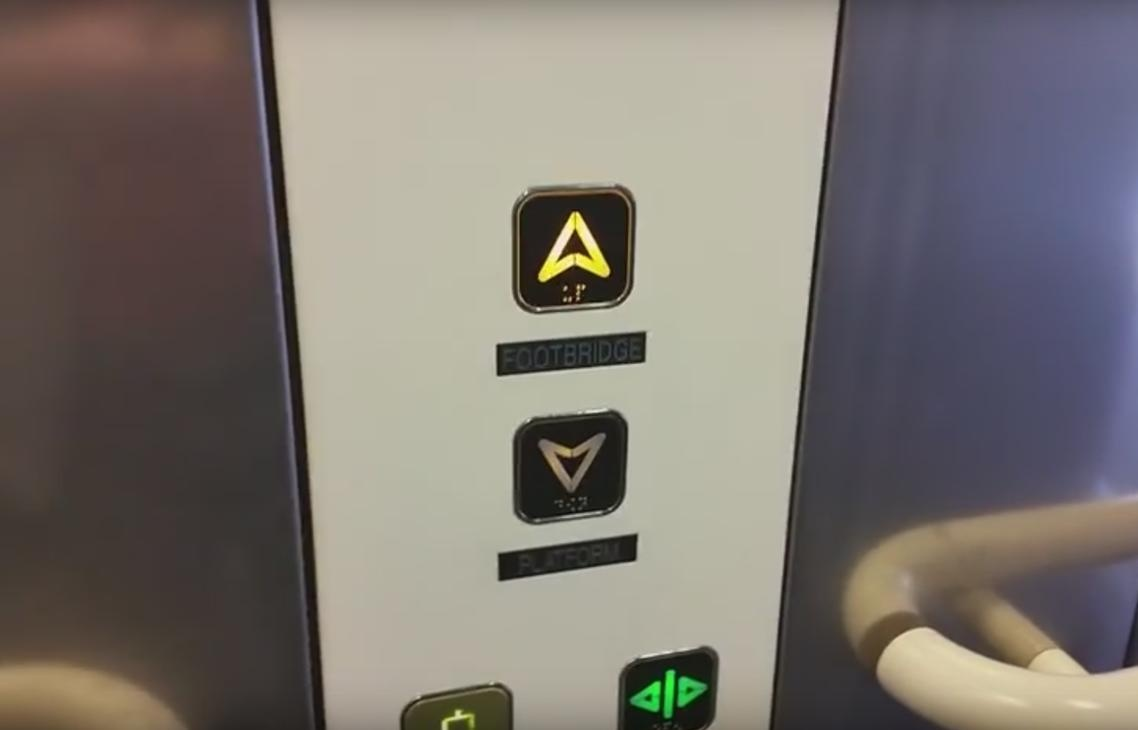down: (510, 408, 630, 526)
open: (615, 645, 723, 730)
up: (512, 184, 635, 317)
